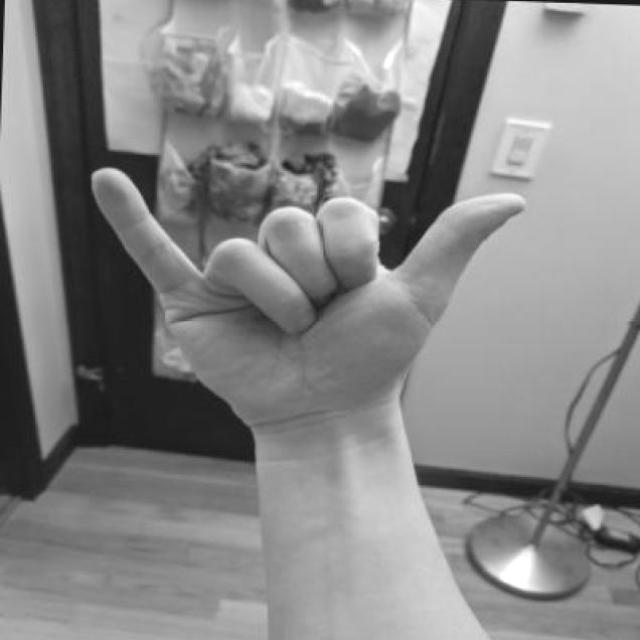Y: (74, 150, 543, 482)
